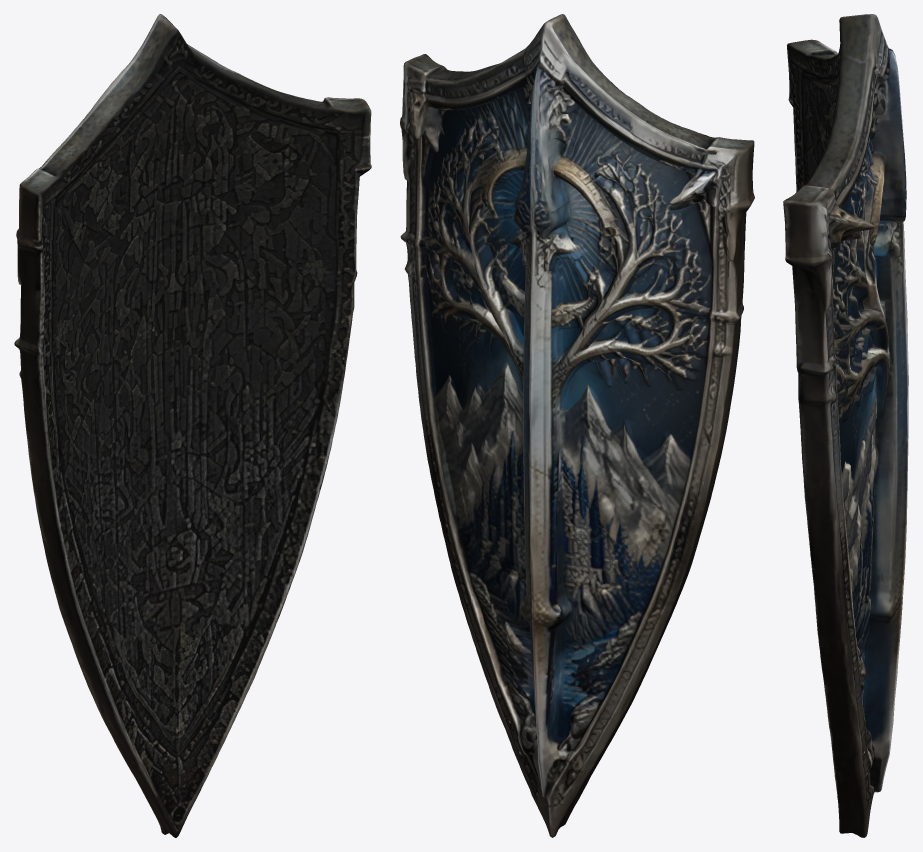
File: kite_winterpine.glb
3 views of the same model, side by side, from view 1: azimuth 30°, elevation 25°; view 2: azimuth 150°, elevation 25°; view 3: azimuth 270°, elevation 25° (orthographic).
Visible parts, largest first — view 1: kite_winterpine; view 2: kite_winterpine; view 3: kite_winterpine.
Boxes of the visible parts, <box> form: kite_winterpine: <box>14,14,371,837</box>; kite_winterpine: <box>400,14,754,837</box>; kite_winterpine: <box>783,14,908,837</box>.
Bounding box in the file's own units: 0.384 × 0.8594 × 0.1188.
1 material, 1 textured.
